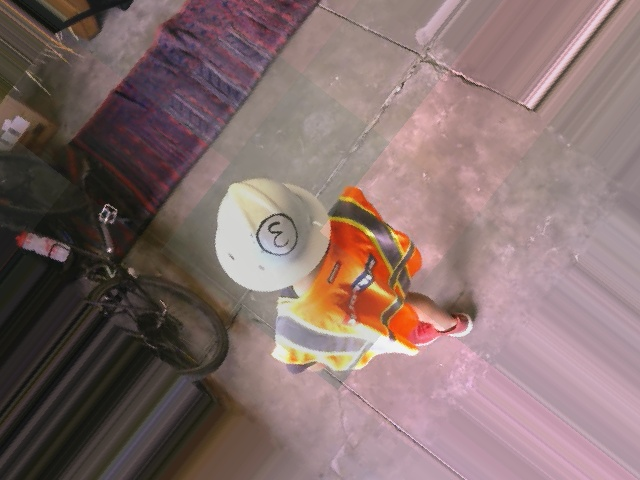three: (248, 204, 307, 263)
